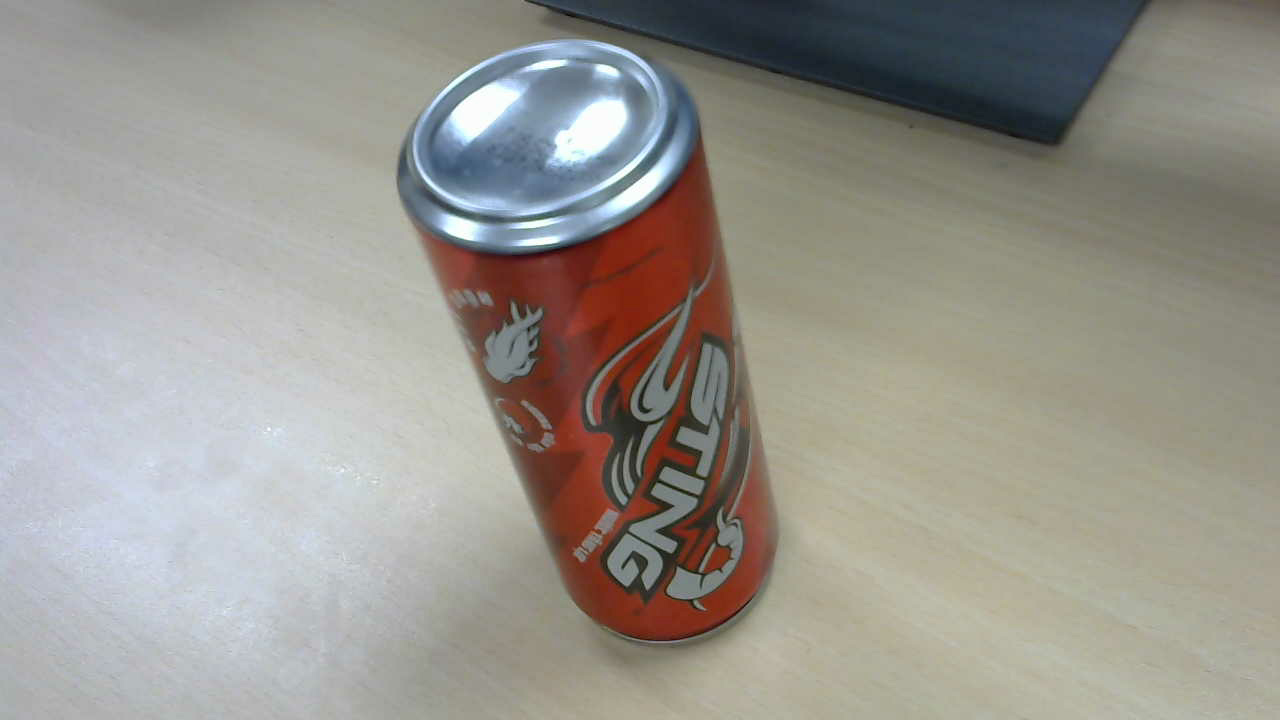Sting: (410, 39, 778, 655)
